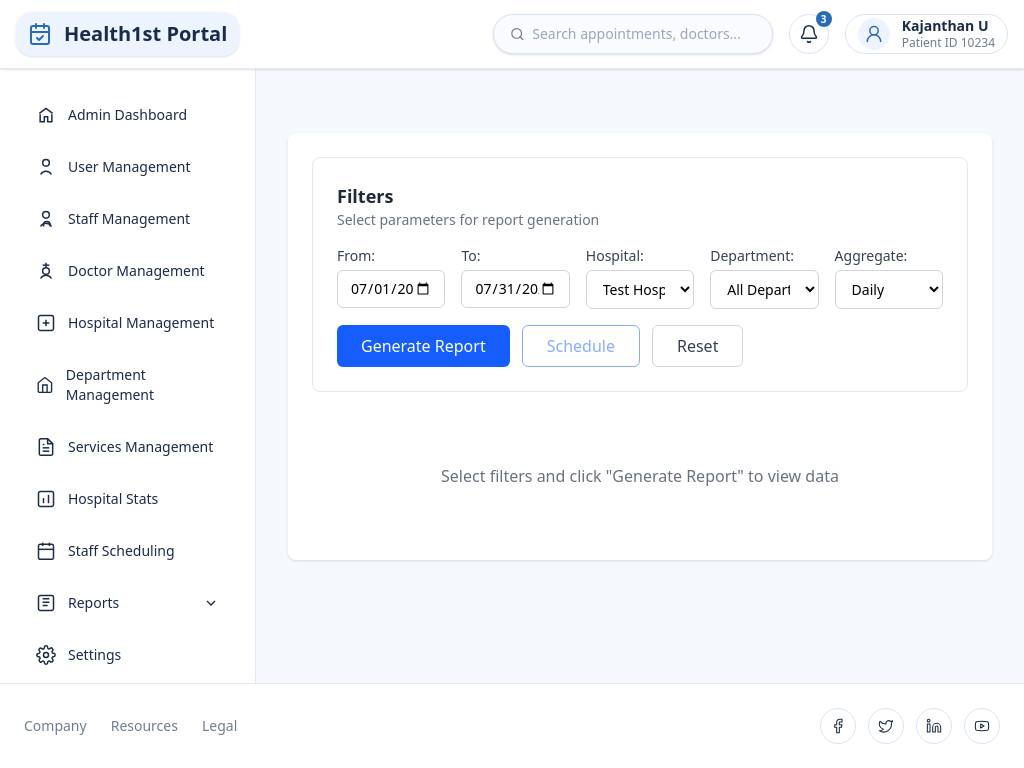
Test: Reports page - edge cases › Reset button clears report and returns to empty state
Click the button "Generate Report" at (423, 346), box top-left (337, 325), bottom-right (510, 367)
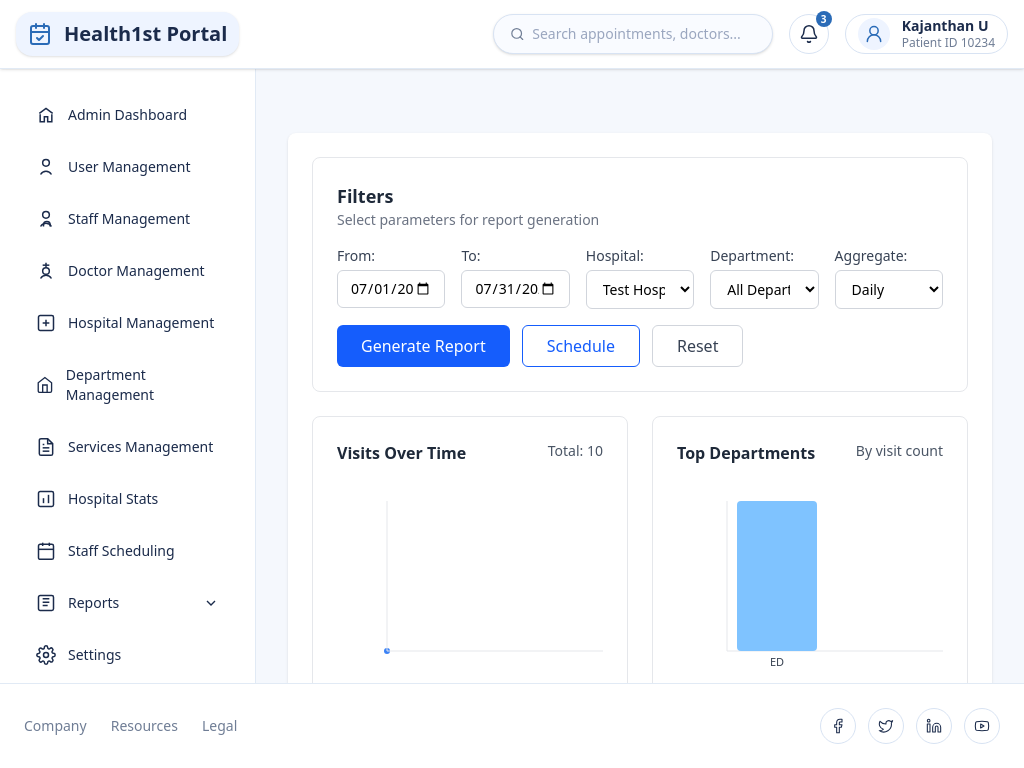
Click the button "Reset" at (698, 346), box top-left (652, 325), bottom-right (744, 367)
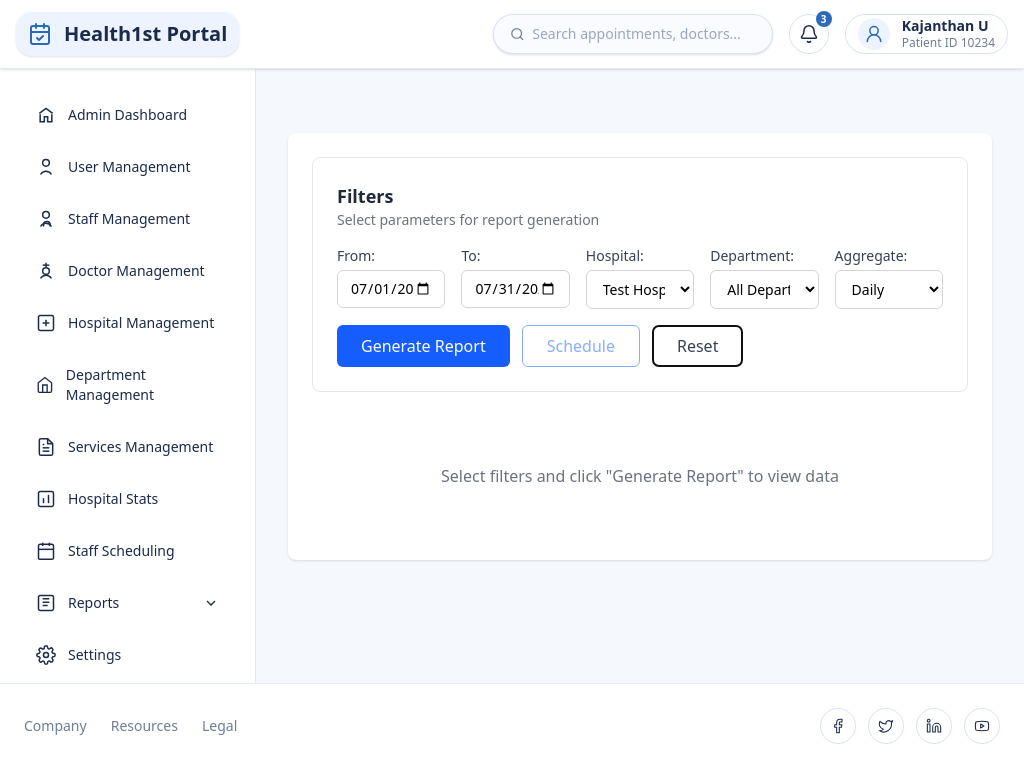
Result: the text "Select filters and click \"Generate Report\" to view data" is shown at top-left (441, 465), bottom-right (839, 487)
